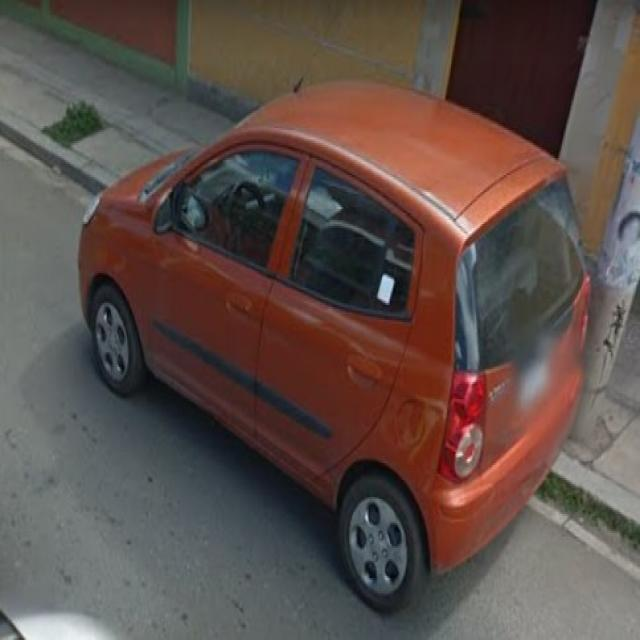cars: (85, 60, 580, 624)
